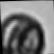correct: (0, 4, 52, 54)
